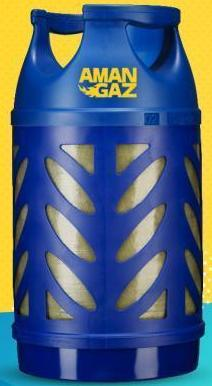cylinder: (1, 0, 212, 386)
